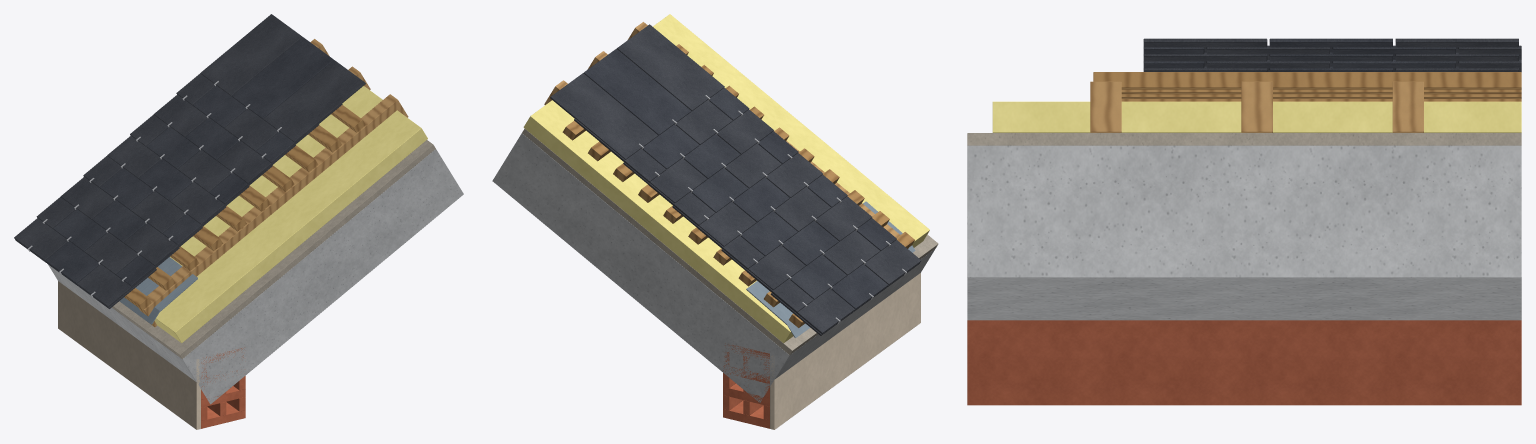
Rendered from detalle8_pizarra_alero_qtp14.glb.
The picture shows the model from 3 angles, left to right: view 1: azimuth 30°, elevation 25°; view 2: azimuth 150°, elevation 25°; view 3: azimuth 270°, elevation 25°; orthographic projection. The views are drawn at different scales.
Parts seen in each view (by area): view 1: D8_Pizarras, D8_Forjado, D8_AT_XPS, D8_Muro, D8_Contrarastreles, D8_Rastreles, D8_Gotero_Zinc, D8_Ganchos; view 2: D8_Pizarras, D8_Forjado, D8_AT_XPS, D8_Muro, D8_Rastreles, D8_Gotero_Zinc, D8_Contrarastreles, D8_Ganchos; view 3: D8_Forjado, D8_Muro, D8_AT_XPS, D8_Pizarras, D8_Rastreles, D8_Contrarastreles.
Part boxes in pixels (bbox=[...]): D8_Pizarras: bbox=[14, 14, 365, 307]; D8_Forjado: bbox=[48, 140, 463, 404]; D8_AT_XPS: bbox=[154, 86, 427, 343]; D8_Muro: bbox=[58, 281, 245, 429]; D8_Contrarastreles: bbox=[139, 39, 408, 326]; D8_Rastreles: bbox=[124, 105, 365, 310]; D8_Gotero_Zinc: bbox=[119, 257, 197, 324]; D8_Ganchos: bbox=[28, 81, 281, 297]; D8_Pizarras: bbox=[550, 24, 921, 333]; D8_Forjado: bbox=[492, 128, 938, 402]; D8_AT_XPS: bbox=[523, 14, 929, 343]; D8_Muro: bbox=[723, 273, 920, 429]; D8_Rastreles: bbox=[562, 44, 914, 327]; D8_Gotero_Zinc: bbox=[746, 201, 915, 337]; D8_Contrarastreles: bbox=[544, 22, 908, 248]; D8_Ganchos: bbox=[638, 95, 906, 323]; D8_Forjado: bbox=[967, 133, 1521, 320]; D8_Muro: bbox=[967, 320, 1521, 405]; D8_AT_XPS: bbox=[992, 101, 1521, 132]; D8_Pizarras: bbox=[1143, 38, 1521, 71]; D8_Rastreles: bbox=[1093, 72, 1521, 101]; D8_Contrarastreles: bbox=[1090, 81, 1423, 132].
Bounding box in the file's own units: 1.15 × 0.9226 × 0.88.
Materials: 13 (13 with a texture image).
